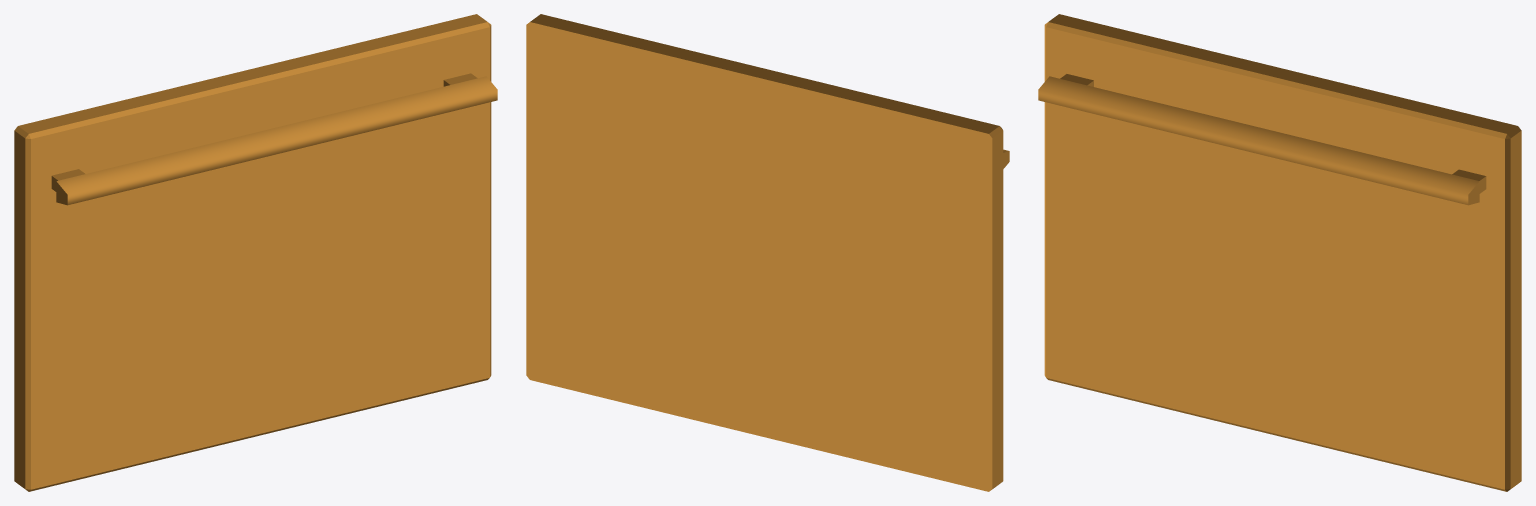
File: RFAIPP_Gas_Stove_Door.FBX
3 renders of one model, left to right at view 1: azimuth 30°, elevation 25°; view 2: azimuth 150°, elevation 25°; view 3: azimuth 330°, elevation 25°, orthographic.
Parts seen in each view (by area): view 1: RFAIPP_Gas_Stove_Door; view 2: RFAIPP_Gas_Stove_Door; view 3: RFAIPP_Gas_Stove_Door.
Boxes of the visible parts, x1,y1,x2,y2 form: RFAIPP_Gas_Stove_Door: (14, 14, 497, 491); RFAIPP_Gas_Stove_Door: (526, 14, 1009, 491); RFAIPP_Gas_Stove_Door: (1038, 14, 1521, 491).
Size of the model in its own units: 0.65 by 0.4771 by 0.0849.
